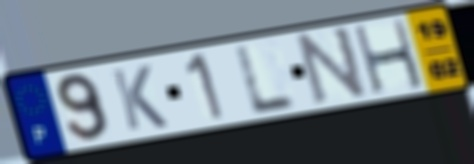1: (182, 50, 226, 123)
9: (55, 70, 112, 146)
H: (351, 16, 427, 97)
K: (108, 63, 171, 133)
L: (233, 43, 300, 117)
N: (295, 24, 370, 108)
